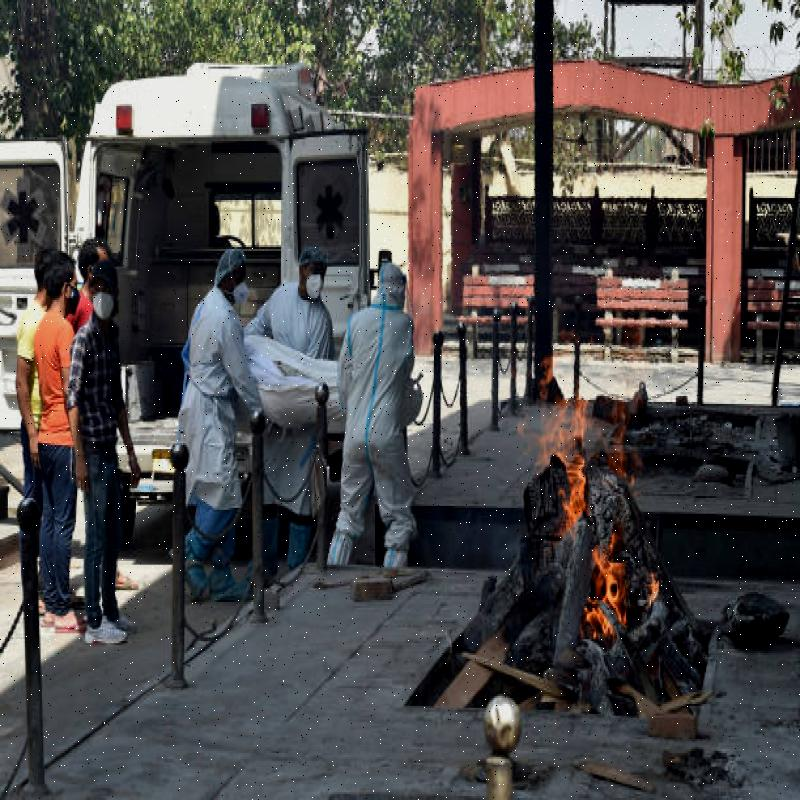ambulance: (108, 79, 379, 504)
